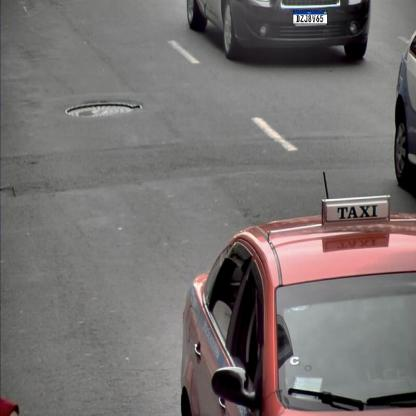PlacaM: (292, 11, 328, 24)
